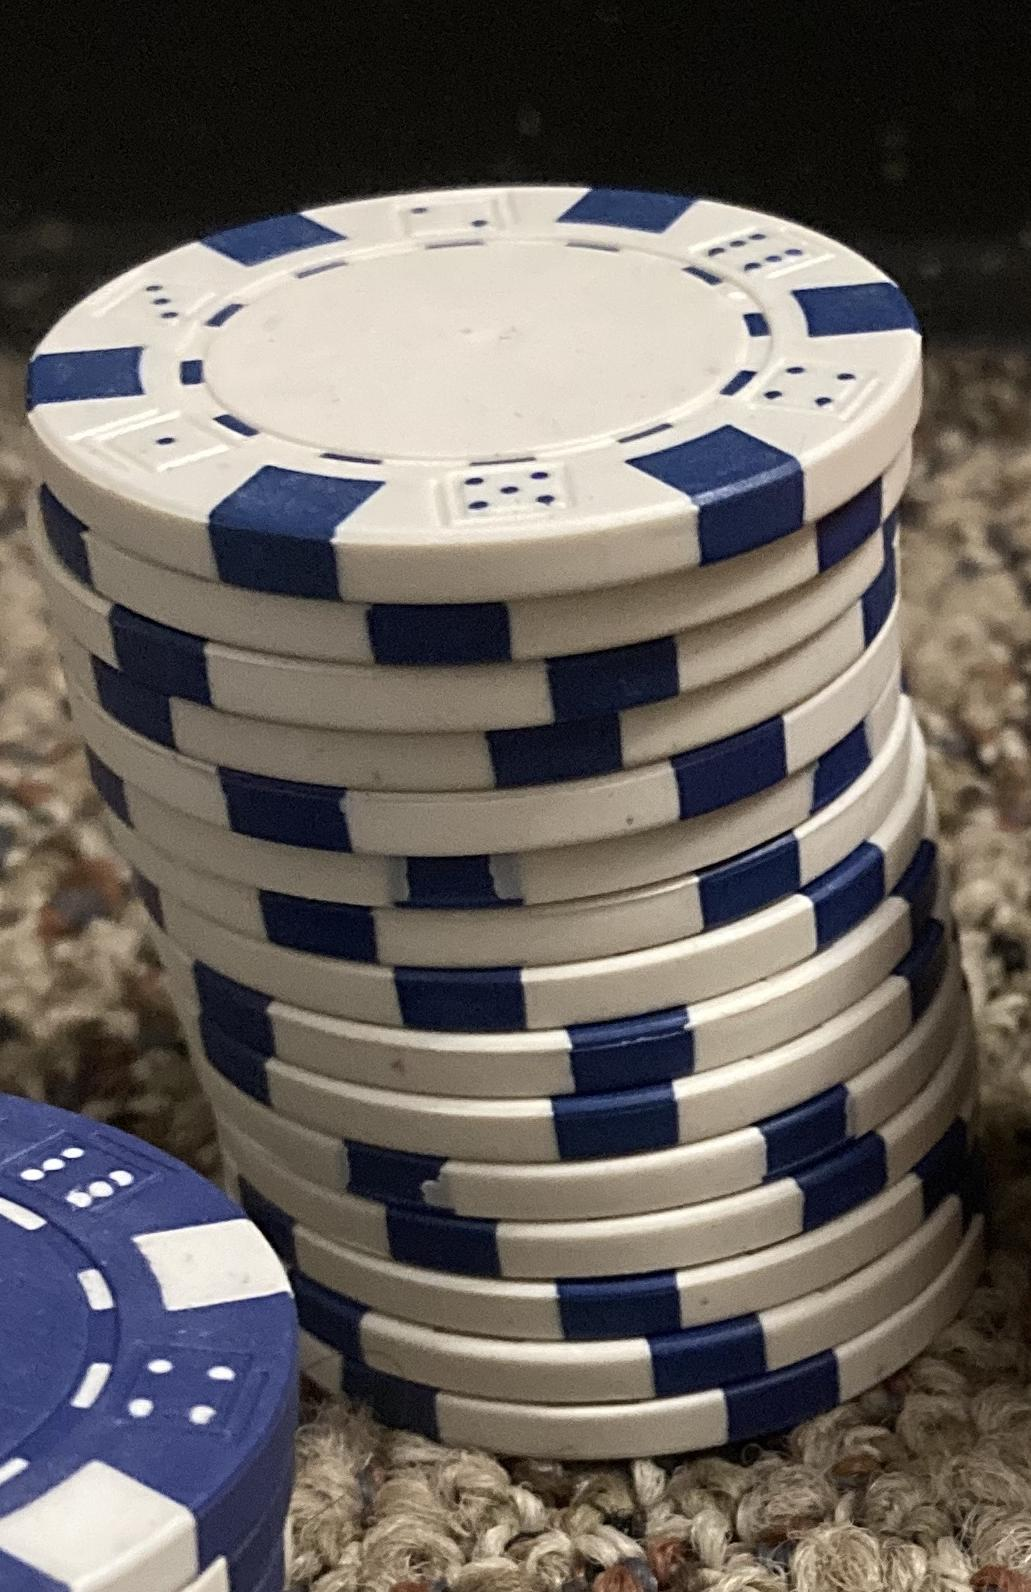Chip: (1, 1, 1031, 1592)
